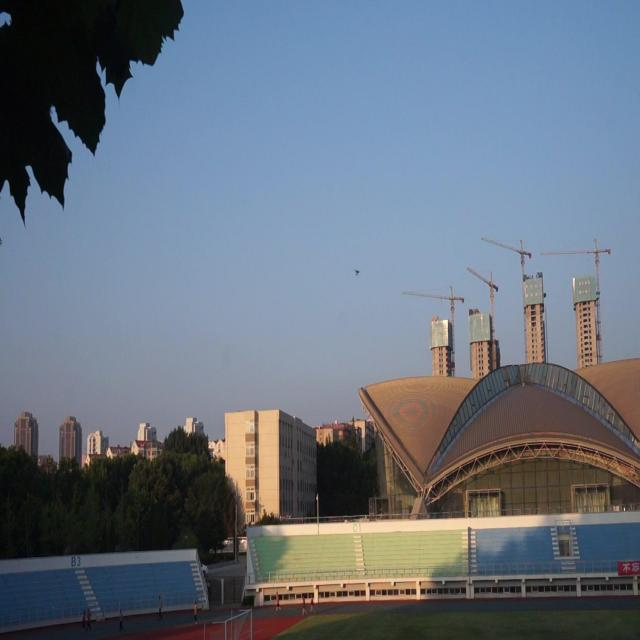UAV: (353, 268, 361, 276)
